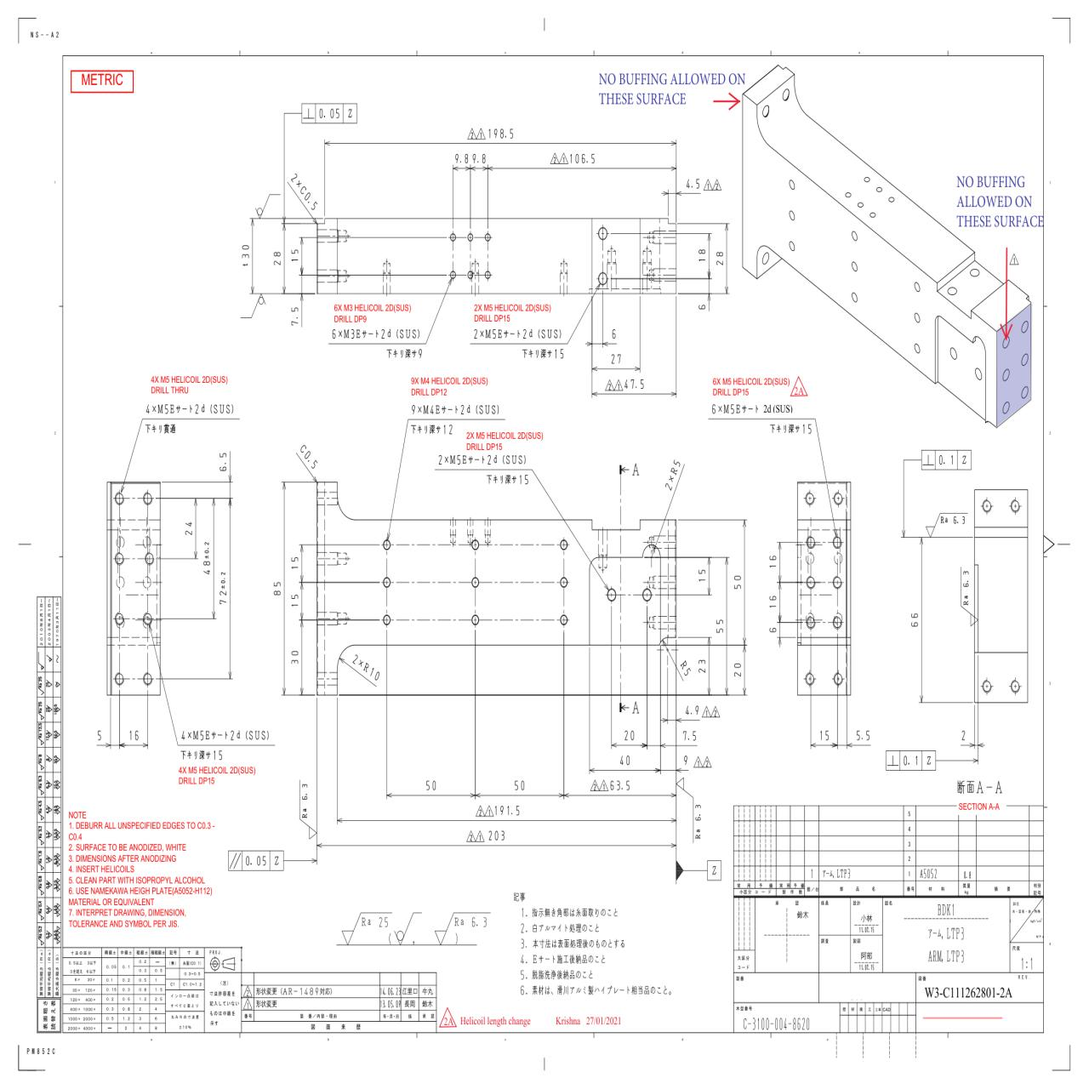basic_dimension: (489, 128, 514, 139), (570, 154, 595, 165), (495, 805, 520, 816), (219, 572, 227, 605), (624, 378, 645, 390), (203, 541, 210, 575), (610, 780, 630, 790), (488, 830, 505, 841), (686, 178, 701, 190), (219, 453, 228, 472), (856, 729, 869, 742), (472, 153, 486, 164), (685, 705, 699, 716), (291, 307, 299, 325), (455, 154, 468, 165), (683, 730, 696, 741), (697, 248, 706, 263), (716, 251, 724, 267), (273, 252, 281, 267), (611, 353, 621, 365), (273, 581, 281, 596), (820, 731, 830, 743), (185, 522, 193, 536), (129, 730, 140, 740), (514, 780, 525, 790), (426, 780, 436, 791), (620, 755, 630, 766), (624, 730, 634, 741), (699, 659, 706, 674), (291, 651, 299, 664), (716, 620, 724, 633), (698, 569, 706, 582), (734, 663, 741, 677), (734, 575, 741, 589), (911, 613, 918, 627), (291, 557, 299, 569), (769, 556, 777, 568), (291, 249, 298, 262), (291, 594, 298, 606), (770, 596, 776, 607), (698, 304, 706, 311), (769, 627, 777, 633), (612, 328, 616, 339), (962, 729, 965, 743), (683, 755, 687, 765), (98, 731, 101, 741)
datum_symbol: (676, 860, 722, 882)
dimension_chamfer_symbol: (298, 184, 319, 212), (298, 442, 308, 456)
dimension_metric_symbol: (343, 328, 355, 339), (485, 329, 497, 339), (192, 730, 200, 740), (157, 403, 164, 414), (422, 404, 429, 415), (723, 404, 730, 414), (450, 454, 456, 464)
dimension_radius_symbol: (678, 657, 689, 672), (669, 465, 680, 477), (362, 661, 371, 675)
dimension_thickness_symbol: (242, 242, 249, 268)
gdt_frame_symbol: (227, 849, 285, 874), (885, 749, 937, 772), (301, 103, 357, 124), (920, 449, 973, 471)
gdt_parallelism_symbol: (229, 852, 241, 869), (923, 455, 934, 465)
gdt_perpendicularity_symbol: (887, 755, 899, 766), (303, 108, 314, 119)
revision_triangle_symbol: (1009, 253, 1020, 267), (476, 126, 486, 140), (559, 151, 569, 164), (590, 779, 600, 791), (475, 830, 485, 842), (475, 805, 485, 817), (703, 178, 713, 190), (467, 127, 476, 140), (550, 151, 559, 164), (614, 378, 623, 391), (693, 756, 703, 767), (711, 705, 720, 717), (702, 705, 711, 717), (703, 756, 712, 768), (466, 830, 475, 842), (713, 178, 722, 190), (605, 379, 614, 391), (485, 805, 494, 816), (600, 779, 608, 791)
surface_finish_symbol: (676, 777, 694, 843), (299, 779, 318, 840), (960, 566, 979, 627), (925, 513, 968, 538), (255, 194, 281, 220), (240, 293, 266, 318)
